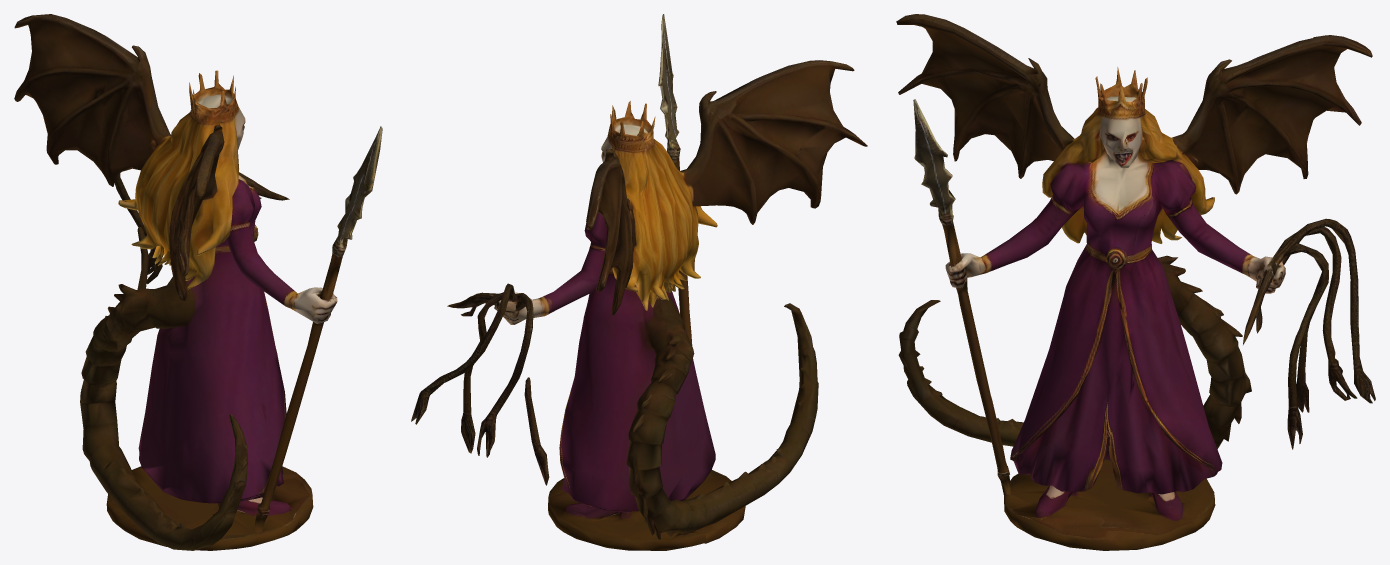
3 renders of one model, left to right at view 1: azimuth 30°, elevation 25°; view 2: azimuth 150°, elevation 25°; view 3: azimuth 270°, elevation 25°, orthographic. The views are drawn at different scales.
Parts seen in each view (by area): view 1: tripo_node_551ca421-46bb-49fb-a5ba-3c5cf029d89c; view 2: tripo_node_551ca421-46bb-49fb-a5ba-3c5cf029d89c; view 3: tripo_node_551ca421-46bb-49fb-a5ba-3c5cf029d89c.
Boxes of the visible parts, bbox=[...] form: tripo_node_551ca421-46bb-49fb-a5ba-3c5cf029d89c: bbox=[14, 14, 382, 550]; tripo_node_551ca421-46bb-49fb-a5ba-3c5cf029d89c: bbox=[411, 14, 867, 550]; tripo_node_551ca421-46bb-49fb-a5ba-3c5cf029d89c: bbox=[896, 14, 1375, 550].
Bounding box in the file's own units: 0.6629 × 1 × 0.9736.
Materials: 1 (1 with a texture image).
